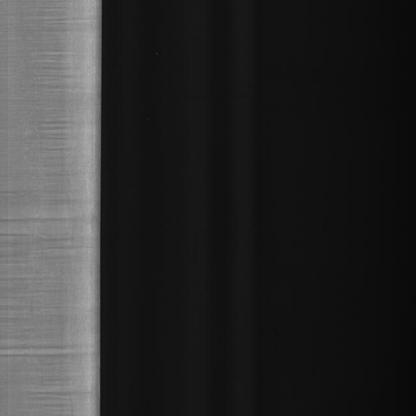waist_folding: (4, 31, 94, 398)
